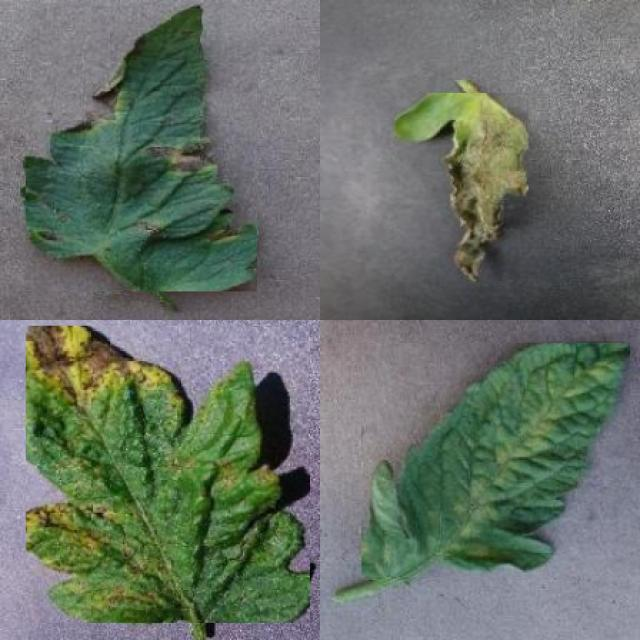Early Blight: (26, 4, 258, 292)
Late Blight: (394, 94, 529, 282)
Leaf Mold: (361, 343, 630, 577)
Septoria: (26, 326, 310, 623)
